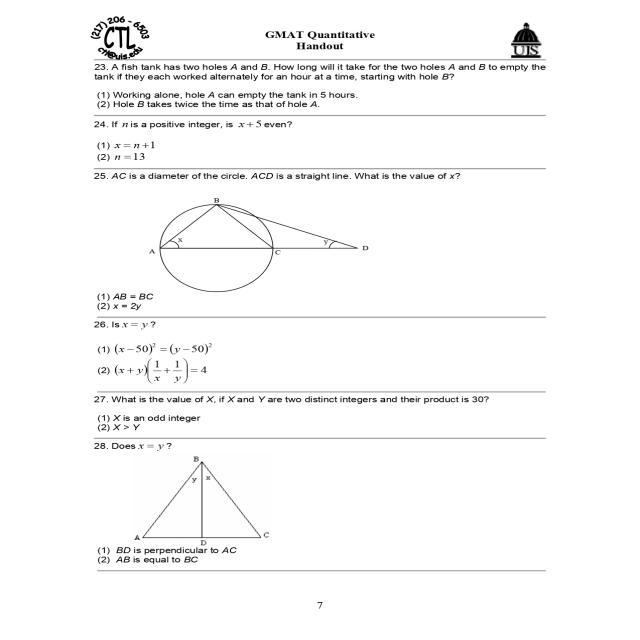Question_Answer_Block: (78, 166, 578, 316), (78, 438, 578, 568), (78, 319, 578, 389), (78, 112, 578, 172), (78, 61, 578, 117), (78, 392, 578, 438)
Question_Paper_Area: (78, 61, 578, 580)
